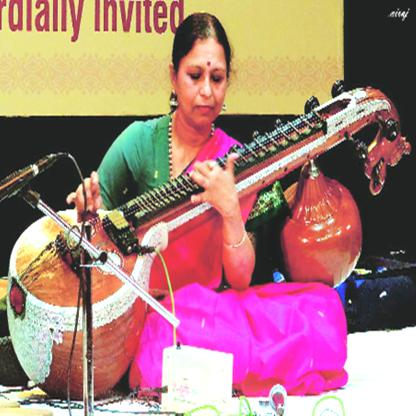Veena: (5, 146, 264, 372)
